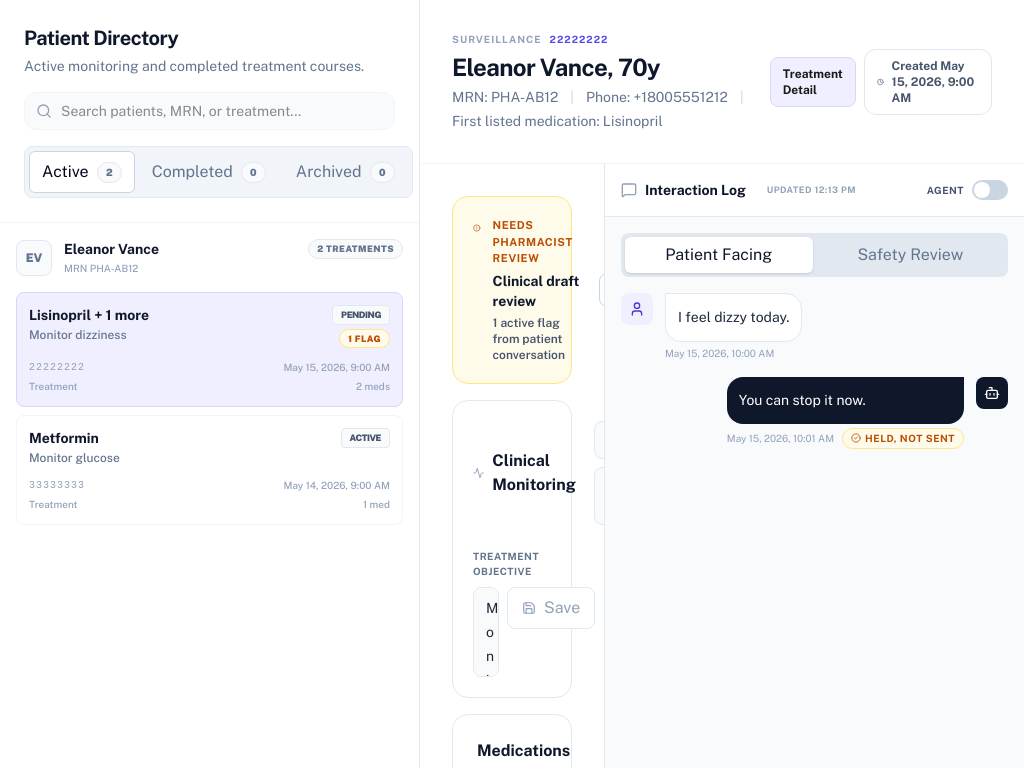
PatientManagementPage › shows real safety flag context in the safety review tab
Expected: the text "I feel dizzy today." is shown, top-left (678, 306), bottom-right (789, 329)
Click the button "Safety Review": (910, 255) top-left (816, 237), bottom-right (1004, 273)
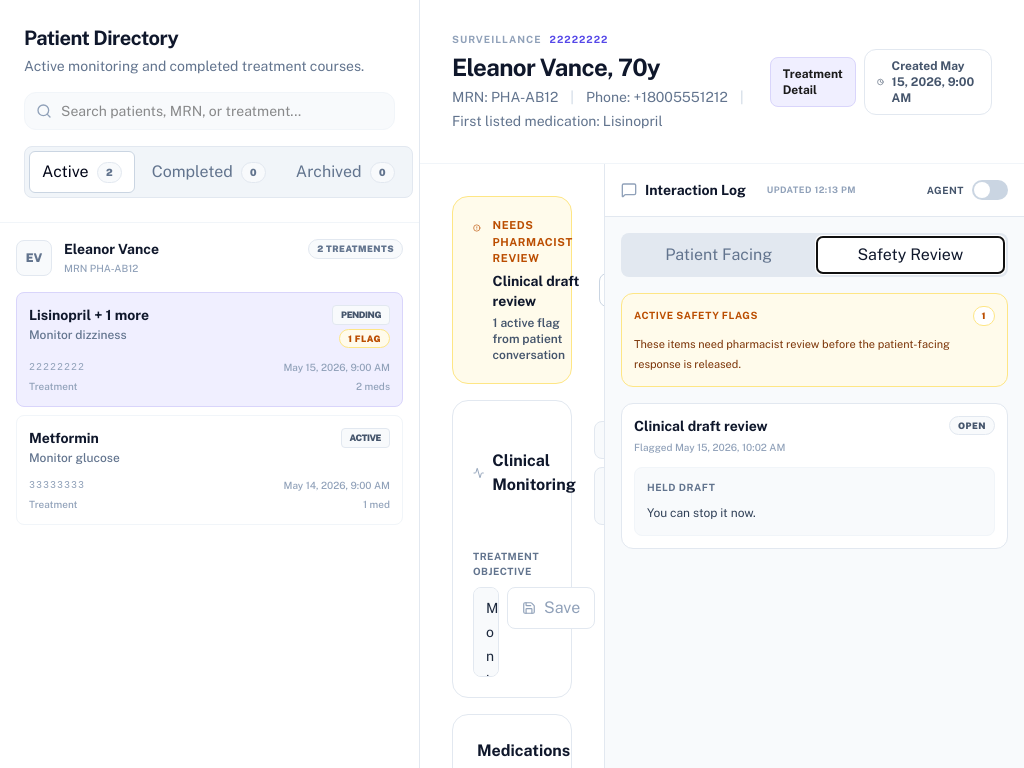
Expected: the text "Active Safety Flags" is shown, top-left (634, 308), bottom-right (758, 323)
Expected: the text "Open" is shown, top-left (949, 416), bottom-right (995, 435)
Expected: the text "Held draft" is shown, top-left (647, 480), bottom-right (715, 492)
